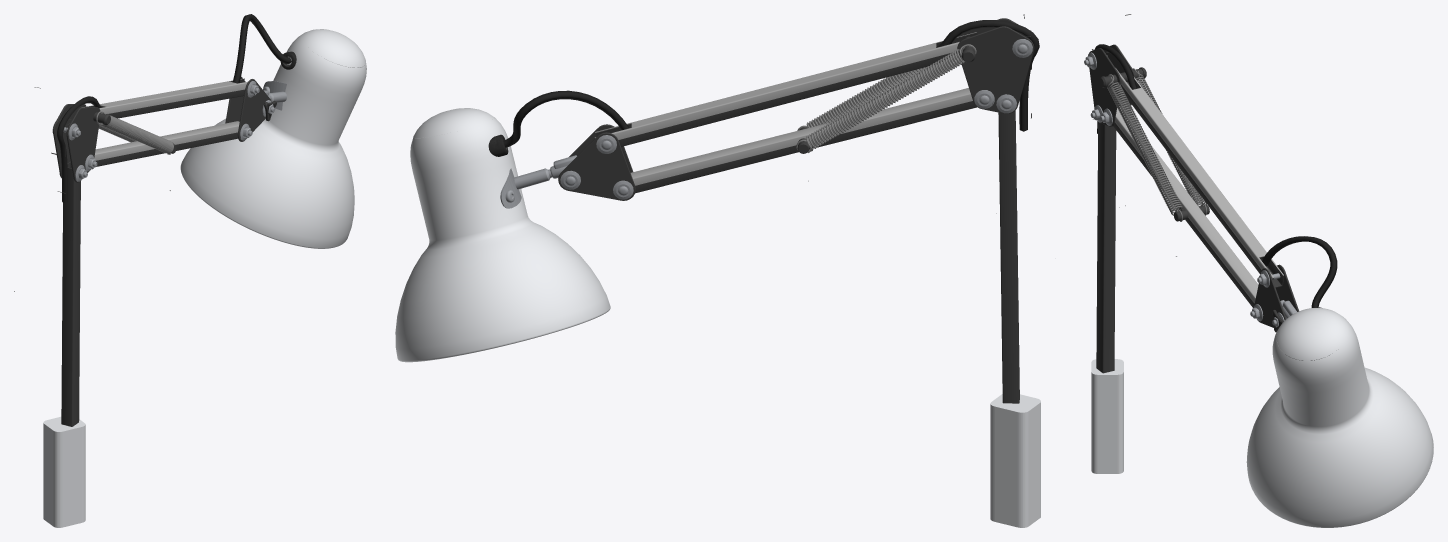
The model's file is lamp.fbx.
3 renders of one model, left to right at view 1: azimuth 30°, elevation 25°; view 2: azimuth 150°, elevation 25°; view 3: azimuth 270°, elevation 25°, orthographic. The views are drawn at different scales.
Parts seen in each view (by area): view 1: Object_2108, Object_1944, Object_2258, Object_1946, Object_2280, Object_1958, Object_2268, Object_2008, Object_2310, Object_2256, Object_2278, Object_2266 (+2 smaller); view 2: Object_2108, Object_1944, Object_2280, Object_2268, Object_2012, Object_2316, Object_1946, Object_2258, Object_2278, Object_2256, Object_2266, Object_1974 (+2 smaller); view 3: Object_2108, Object_2256, Object_1944, Object_2280, Object_1958, Object_2268, Object_2310, Object_1946, Object_2008, Object_2278, Object_2258, Object_1970 (+2 smaller).
Part boxes in pixels (bbox=[...]): Object_2108: bbox=[180, 34, 366, 248]; Object_1944: bbox=[43, 416, 85, 527]; Object_2258: bbox=[61, 168, 77, 426]; Object_1946: bbox=[57, 14, 291, 202]; Object_2280: bbox=[81, 78, 247, 113]; Object_1958: bbox=[301, 29, 365, 67]; Object_2268: bbox=[94, 121, 239, 160]; Object_2008: bbox=[68, 108, 100, 182]; Object_2310: bbox=[96, 111, 173, 154]; Object_2256: bbox=[76, 181, 80, 424]; Object_2278: bbox=[109, 89, 244, 118]; Object_2266: bbox=[96, 132, 237, 166]; Object_2108: bbox=[395, 117, 610, 362]; Object_1944: bbox=[990, 394, 1040, 527]; Object_2280: bbox=[595, 32, 976, 139]; Object_2268: bbox=[630, 88, 972, 185]; Object_2012: bbox=[957, 27, 1033, 113]; Object_2316: bbox=[796, 44, 976, 152]; Object_1946: bbox=[503, 20, 1039, 147]; Object_2258: bbox=[1007, 110, 1019, 403]; Object_2278: bbox=[618, 52, 956, 146]; Object_2256: bbox=[998, 112, 1011, 403]; Object_2266: bbox=[635, 101, 976, 193]; Object_1974: bbox=[559, 133, 635, 200]; Object_2108: bbox=[1246, 313, 1433, 527]; Object_2256: bbox=[1099, 123, 1116, 373]; Object_1944: bbox=[1091, 359, 1123, 473]; Object_2280: bbox=[1115, 68, 1283, 278]; Object_1958: bbox=[1276, 308, 1347, 360]; Object_2268: bbox=[1115, 106, 1258, 303]; Object_2310: bbox=[1107, 74, 1182, 221]; Object_1946: bbox=[1094, 44, 1337, 307]; Object_2008: bbox=[1089, 48, 1119, 126]; Object_2278: bbox=[1121, 85, 1261, 274]; Object_2258: bbox=[1096, 122, 1101, 370]; Object_1970: bbox=[1254, 269, 1284, 327].
Bounding box in the file's own units: 373 × 348 × 249.
4 materials, 1 textured.
